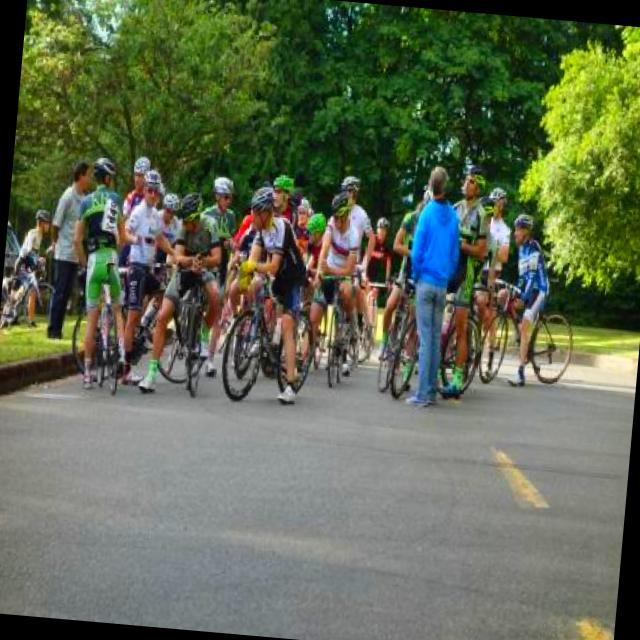Person: (58, 156, 141, 388), (135, 192, 228, 399), (228, 184, 316, 402), (396, 166, 466, 410), (434, 164, 496, 404), (111, 171, 180, 386), (298, 190, 368, 367), (374, 187, 434, 390), (322, 177, 380, 374), (186, 173, 240, 374), (492, 215, 554, 386), (436, 192, 504, 344), (41, 158, 89, 342), (473, 187, 512, 376), (258, 177, 302, 333), (0, 207, 50, 326), (112, 151, 150, 290), (355, 217, 398, 338), (136, 182, 166, 330), (228, 226, 268, 333), (234, 180, 276, 272), (296, 212, 331, 314), (149, 195, 181, 282), (348, 255, 370, 342), (292, 200, 310, 241), (280, 187, 301, 215)
